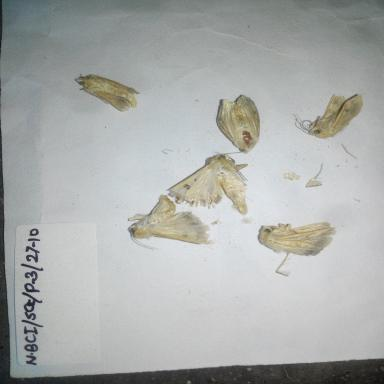abw: (160, 148, 257, 218), (122, 191, 220, 258), (288, 82, 366, 140), (208, 92, 268, 154), (254, 218, 342, 259), (68, 70, 143, 115)
